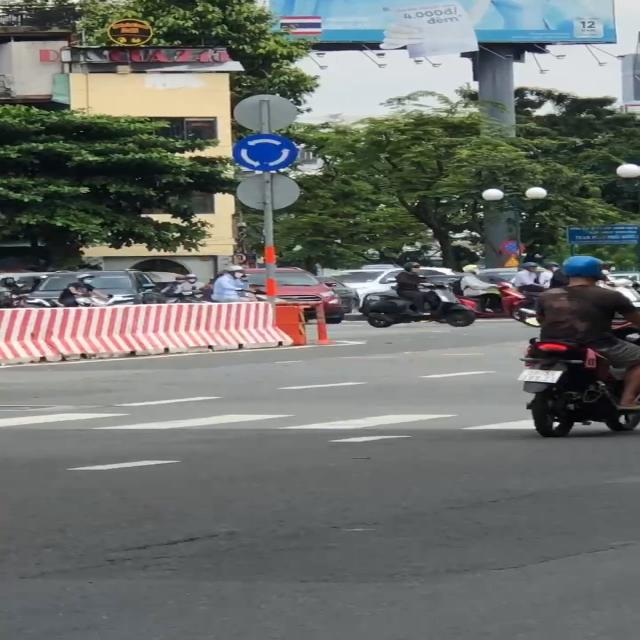Bien bao noi giao nhau chay theo vong xuyen: (229, 132, 302, 174)
